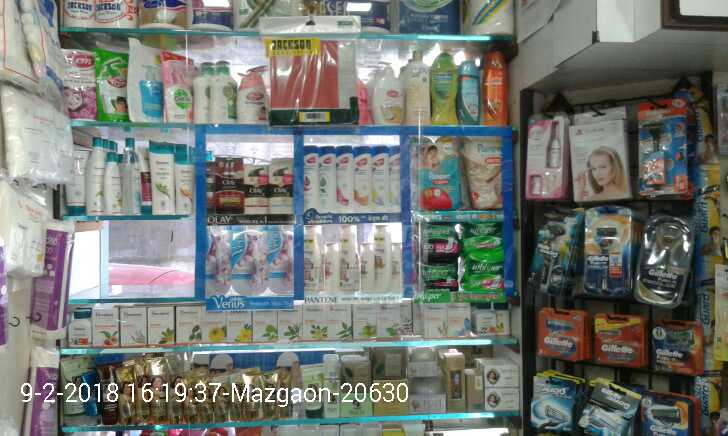gillete: (580, 204, 632, 295), (637, 215, 691, 299), (639, 103, 685, 190), (533, 207, 575, 295), (694, 167, 728, 273), (583, 382, 641, 436), (596, 309, 644, 373), (535, 306, 589, 362), (654, 319, 706, 375), (529, 376, 582, 429), (644, 393, 692, 436), (690, 102, 723, 164), (697, 375, 723, 431), (698, 277, 726, 315)
venus: (230, 226, 266, 297), (266, 226, 293, 295), (206, 226, 230, 297)
